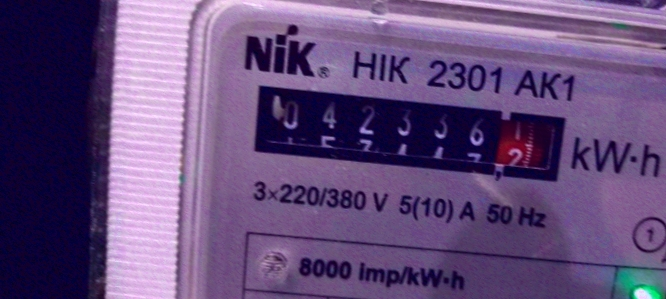0: (278, 96, 301, 131)
1: (508, 115, 523, 142)
2: (354, 100, 379, 136), (503, 145, 522, 168)
3: (391, 103, 413, 137), (430, 107, 450, 141)
4: (319, 96, 339, 130)
6: (465, 113, 488, 149)
screen: (237, 69, 580, 195)
